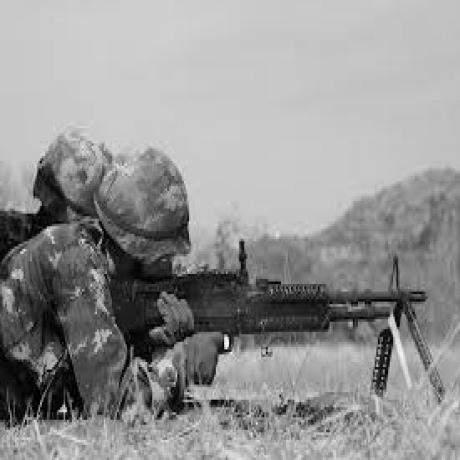Guns: (108, 236, 450, 408)
